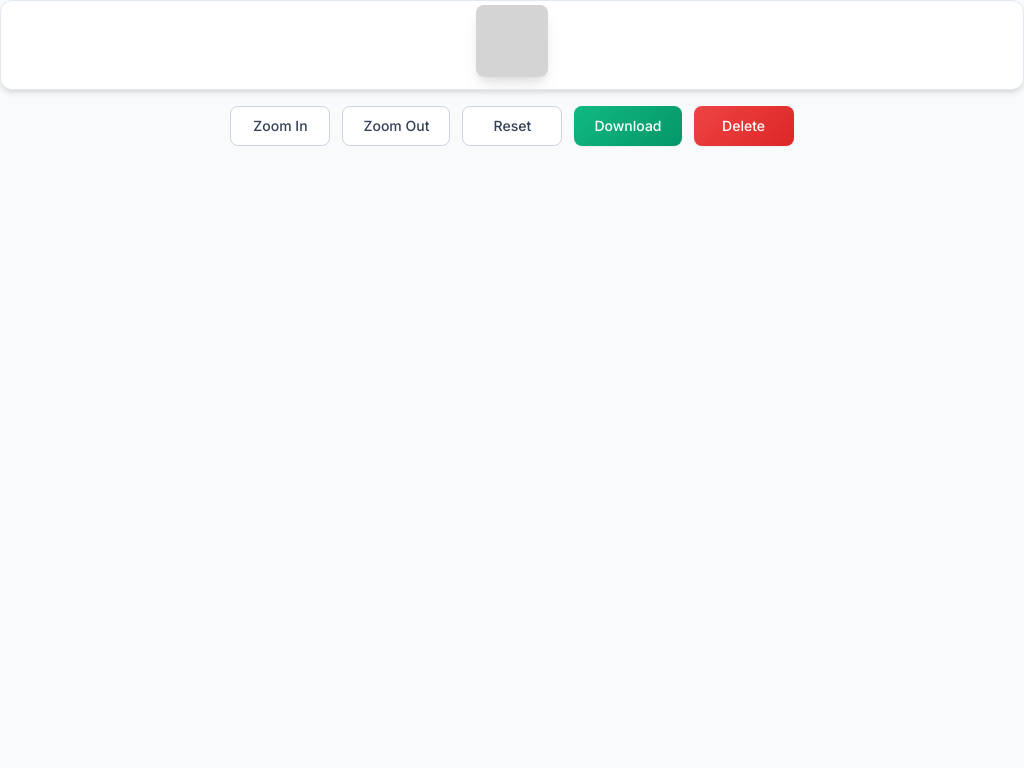
ImageDisplay › Delete Functionality › delete modal has proper form validation
Click the button "Delete": [744, 126] box [694, 106, 794, 146]
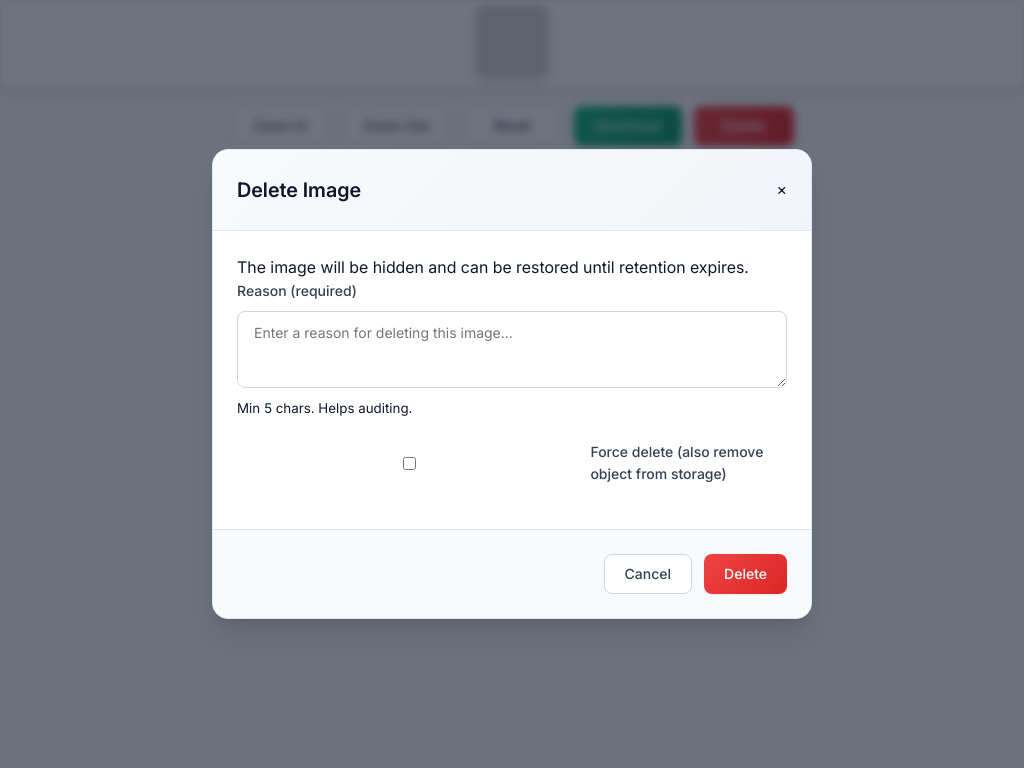
Click the button "Delete": [746, 574] box [704, 554, 787, 594]
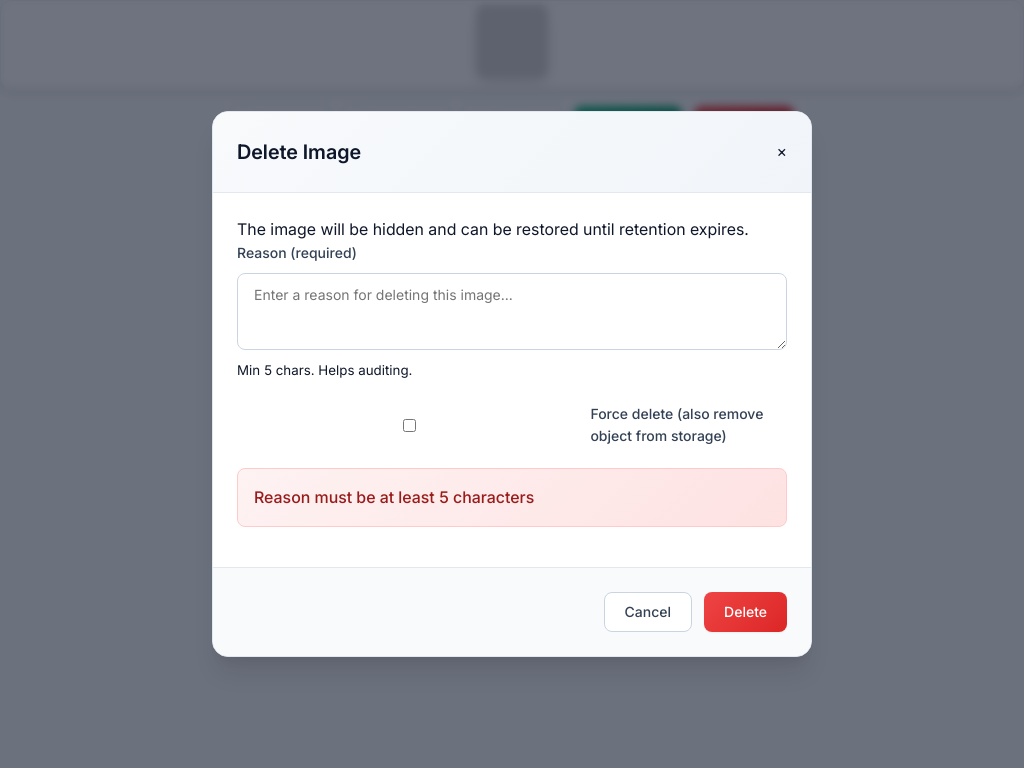
Result: the text "Reason must be at least 5 characters" is shown at [237, 468, 787, 527]
